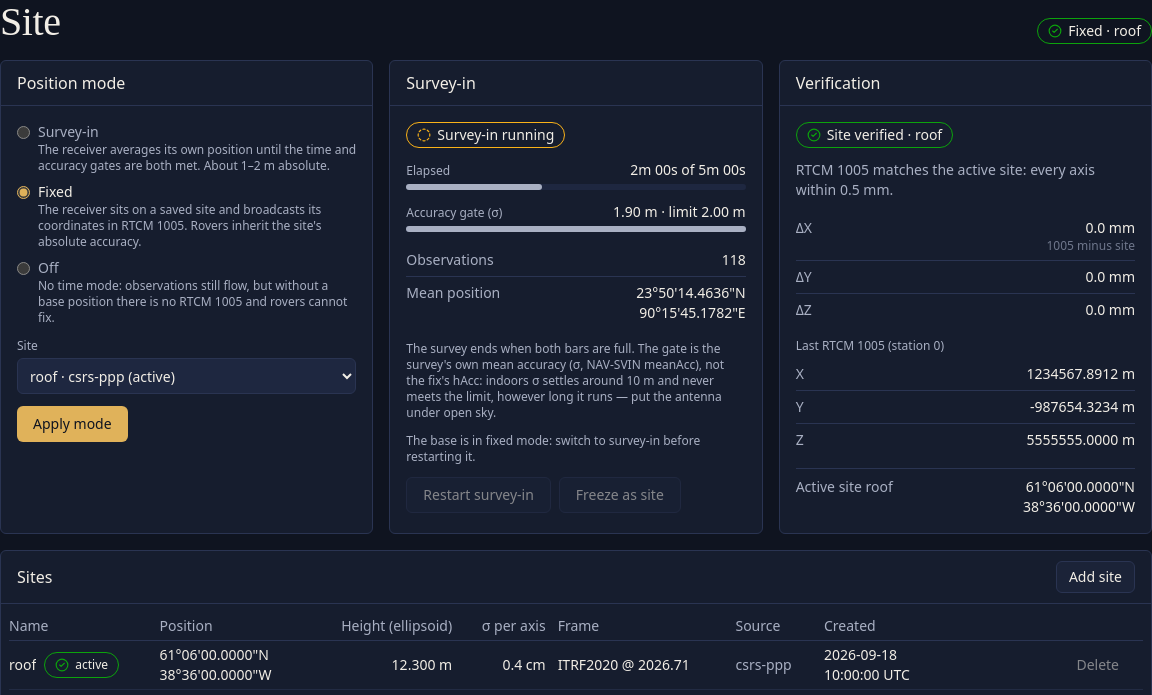
Site page › shows a duplicate-name 409 verbatim inside the form
The width and height of the screenshot is (1152, 695).
Click the button "Add site" at (1095, 577), box x1=1056 y1=561 x2=1135 y2=593
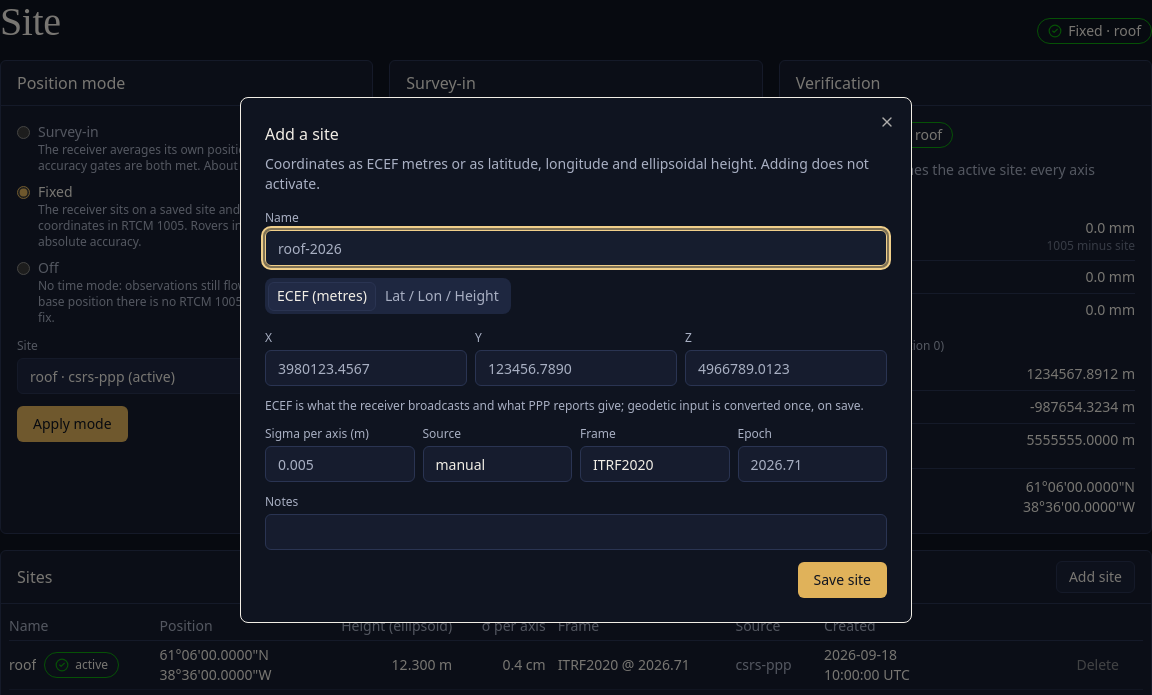
Type "roof" into the field labelled "Name" at (576, 248), box x1=265 y1=230 x2=887 y2=266
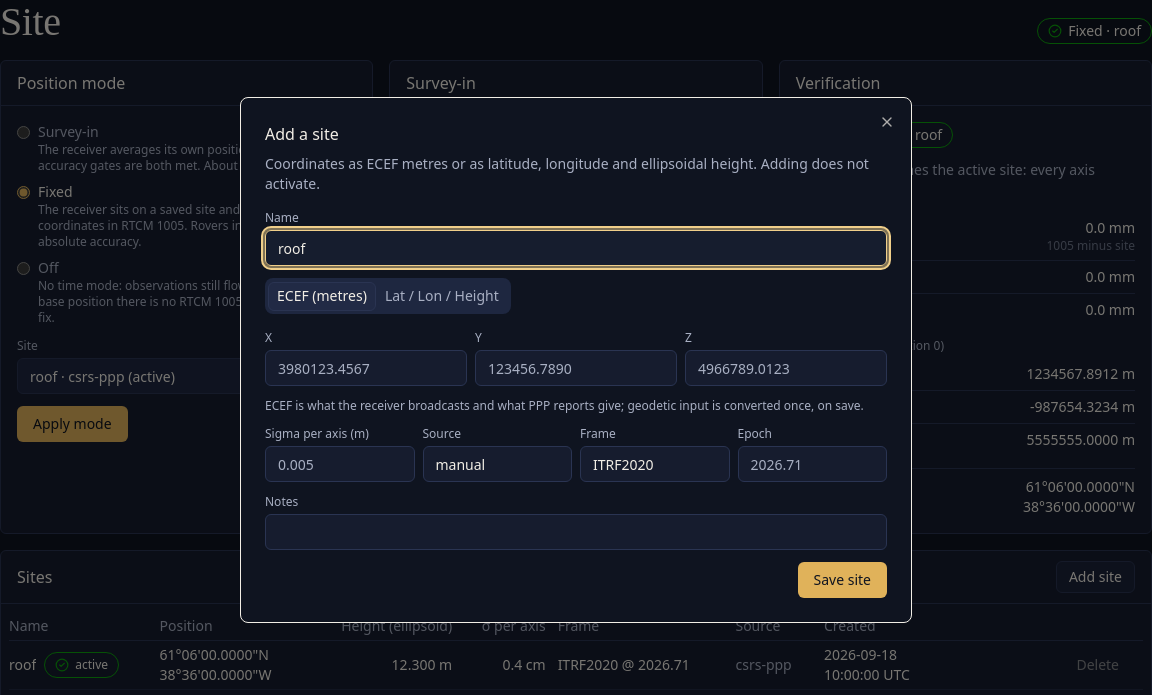
Type "1" into the field labelled "X" at (366, 368), box x1=265 y1=350 x2=467 y2=386
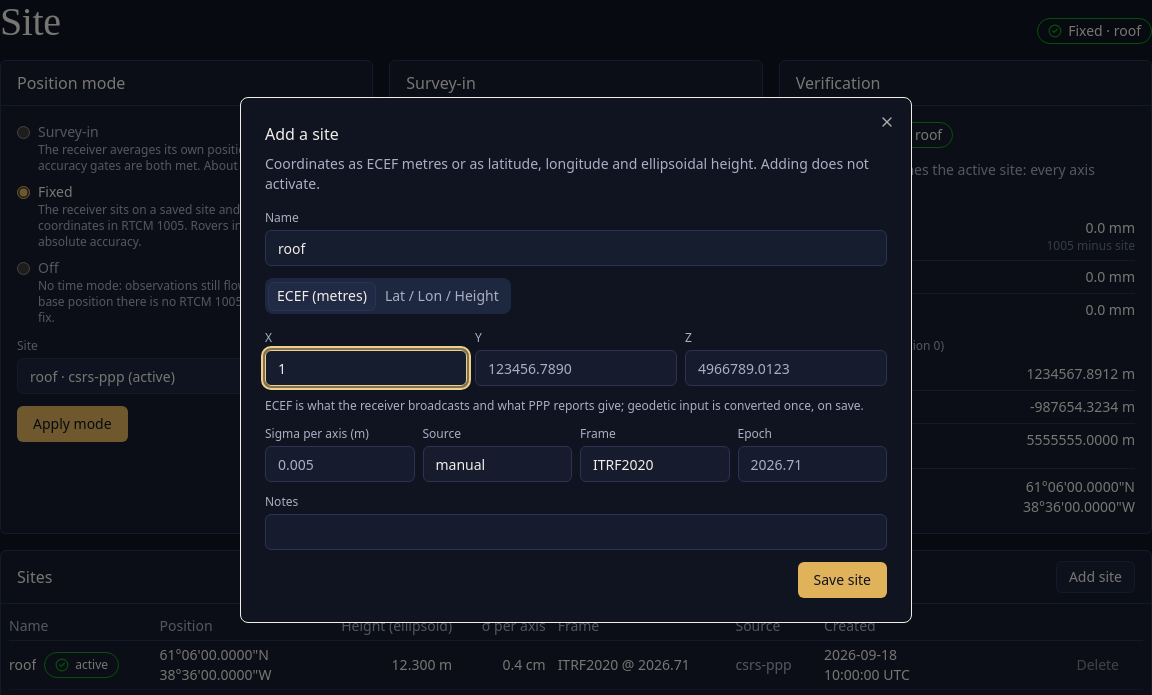
Type "2" into the field labelled "Y" at (576, 368), box x1=475 y1=350 x2=677 y2=386
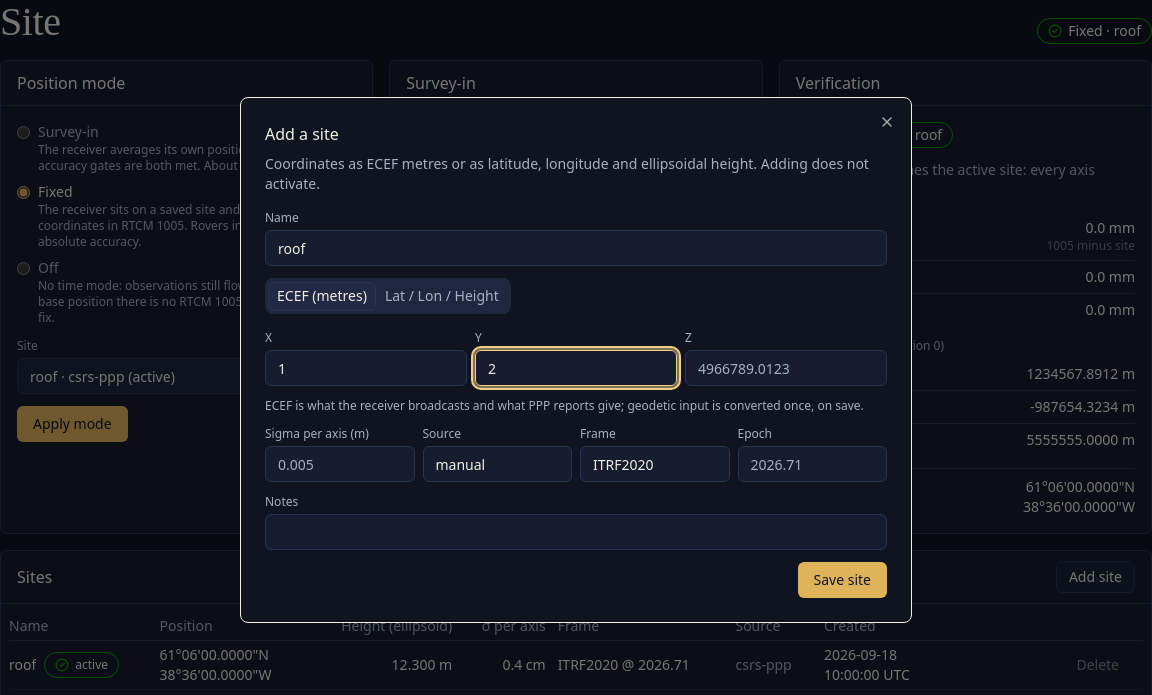
Type "3" into the field labelled "Z" at (786, 368), box x1=685 y1=350 x2=887 y2=386
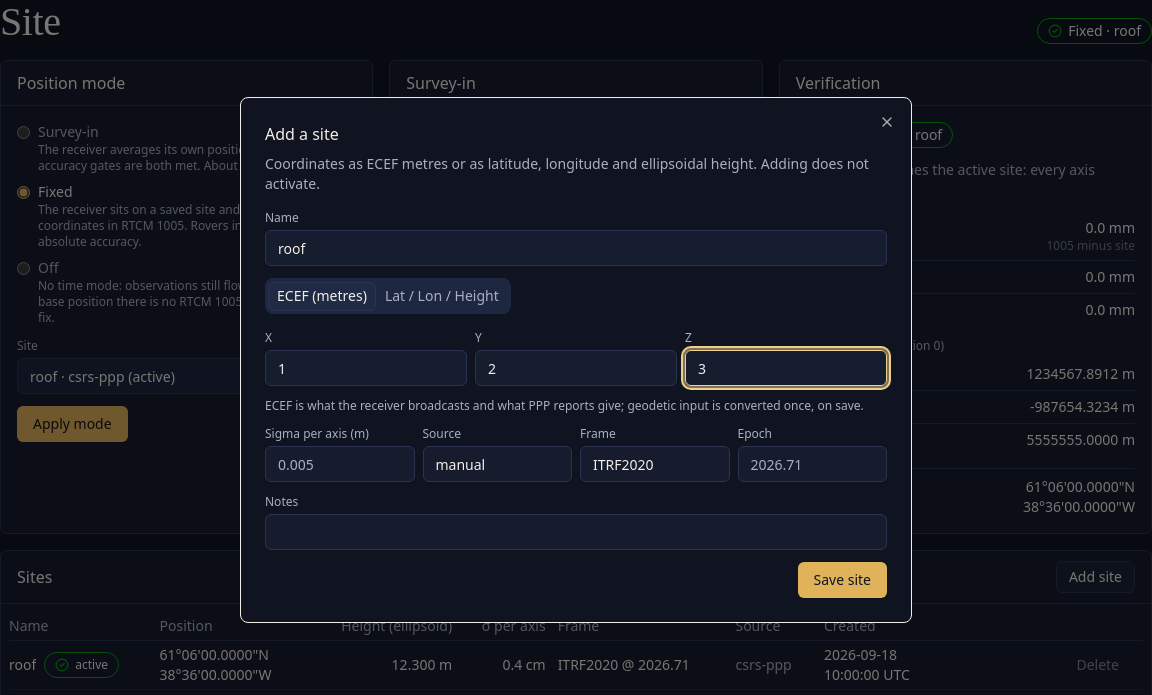
Click the button "Save site" at (842, 580), box x1=798 y1=562 x2=887 y2=598
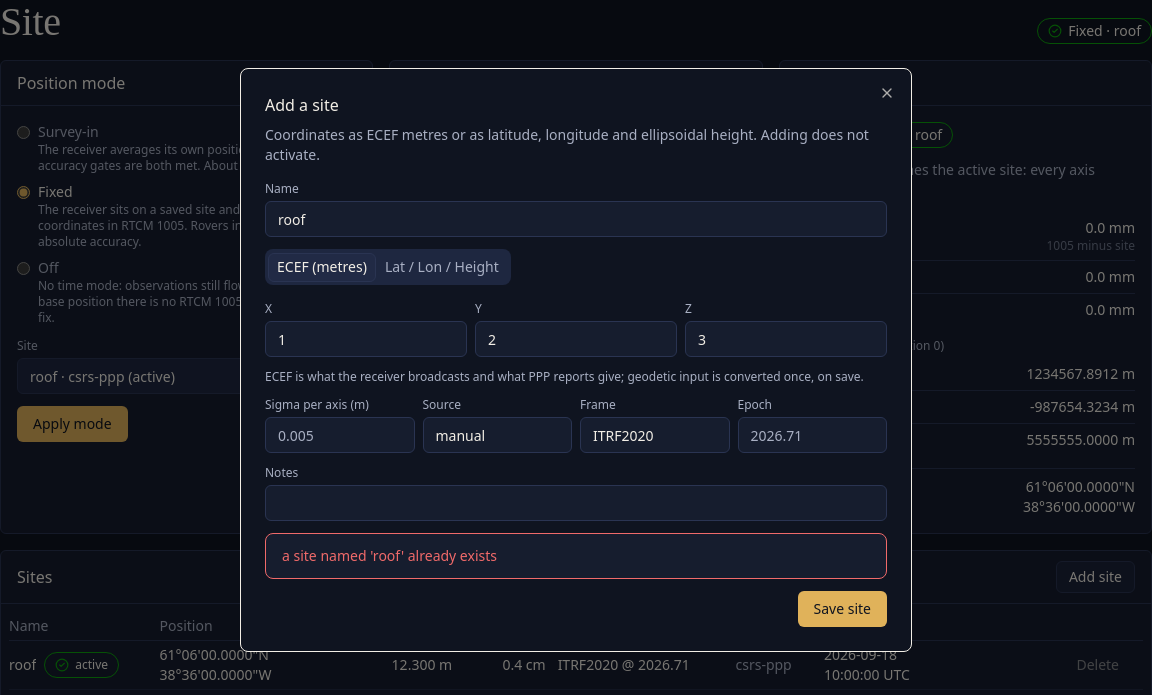
expect the message reads "a site named 'roof' already exists": met, box x1=282 y1=546 x2=497 y2=565
